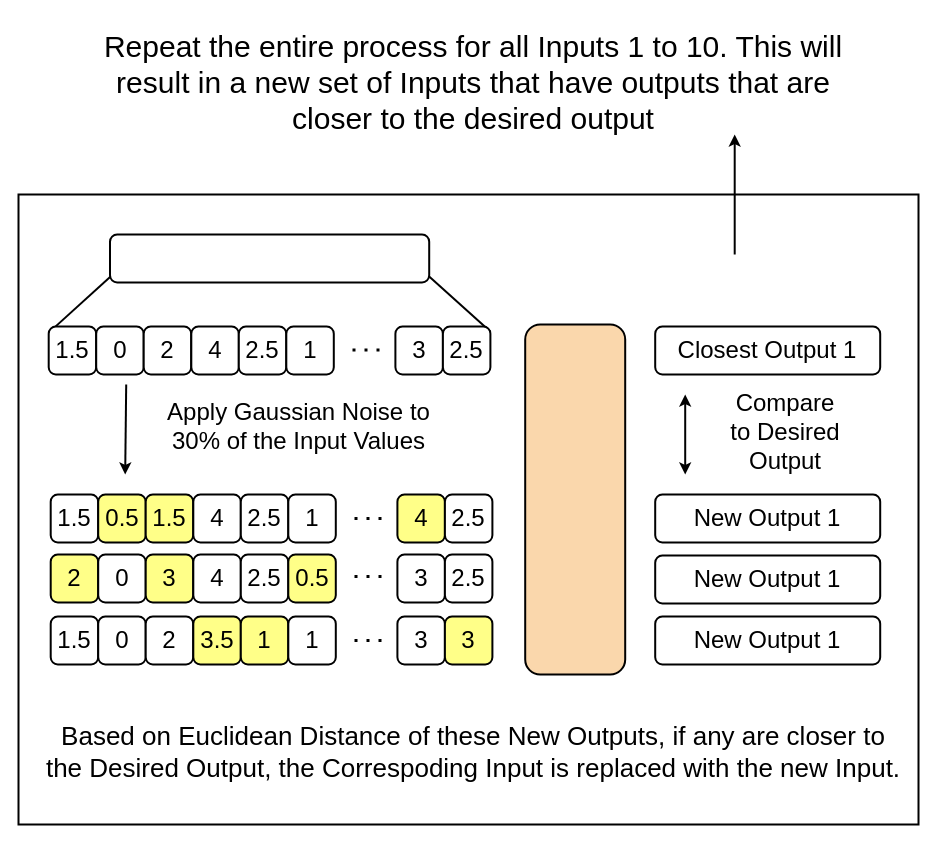
This 936x842 diagram has some shape labels left out. Each missing label, with the centre of its shape:
"Corresponding Input 1" goes at [269,258].
"PIC" goes at [575,499].
